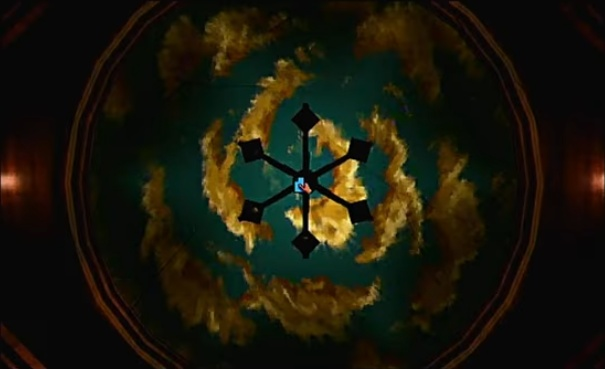Keep: (288, 174, 316, 200)
